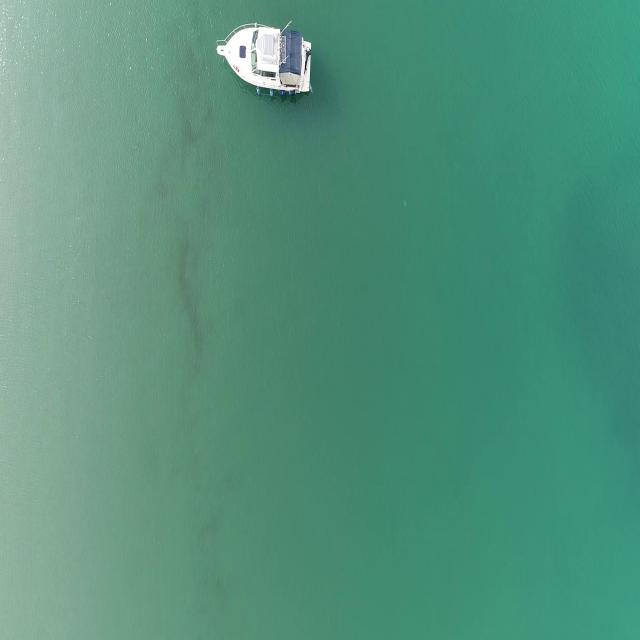boat: (214, 23, 315, 101)
